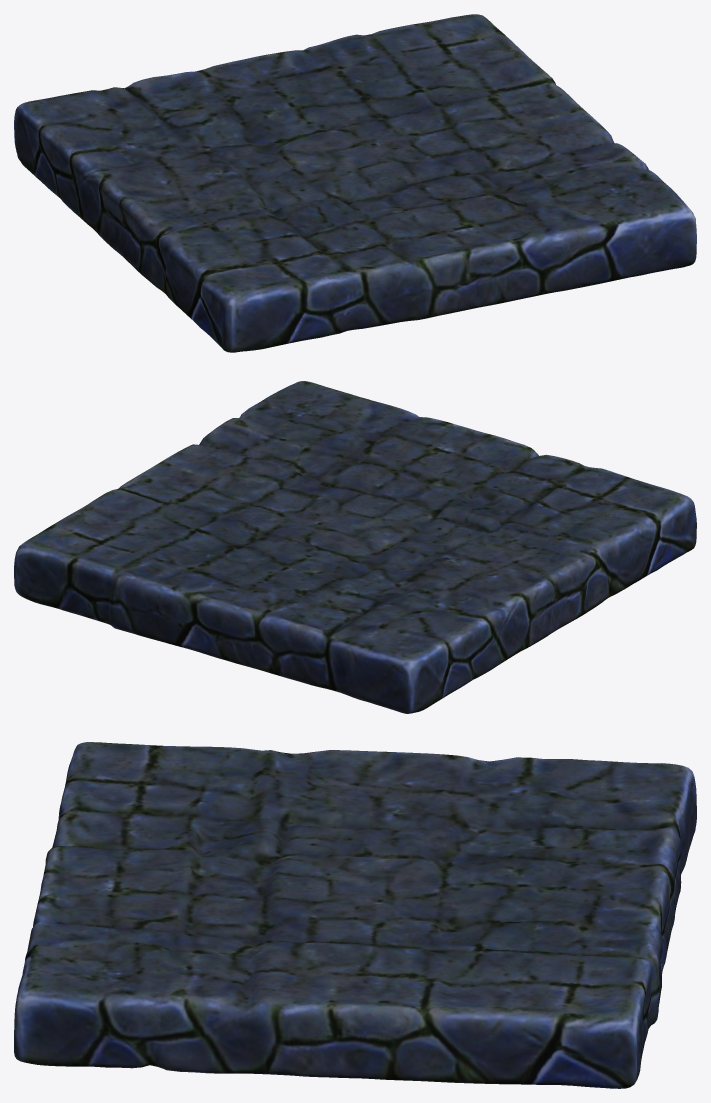
File: 9504dde2b83c_stylized_low_poly_s.fbx
3 renders of one model, top to bottom at view 1: azimuth 30°, elevation 25°; view 2: azimuth 150°, elevation 25°; view 3: azimuth 270°, elevation 25°, orthographic. The views are drawn at different scales.
Parts seen in each view (by area): view 1: mesh; view 2: mesh; view 3: mesh.
Part boxes in pixels (x1,y1,x2,y2): mesh: [14, 14, 696, 352]; mesh: [14, 381, 696, 713]; mesh: [14, 742, 696, 1088].
Bounding box in the file's own units: 99.78 × 11.6 × 99.84.
